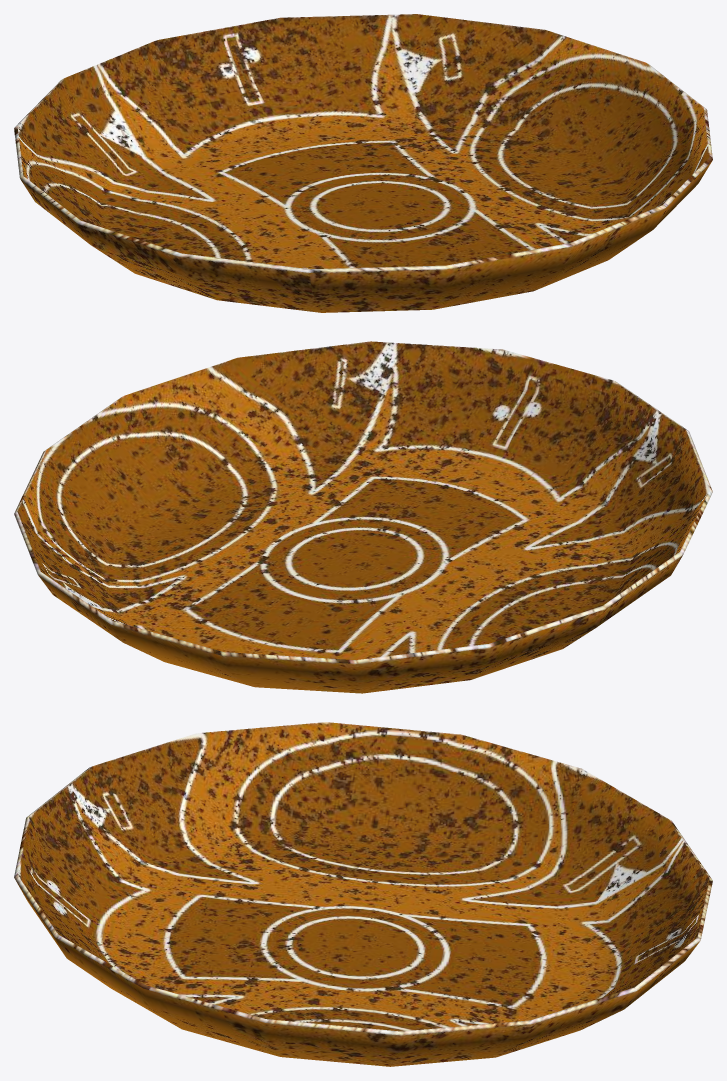
The model's file is plato_arqueologico.glb.
3 renders of one model, top to bottom at view 1: azimuth 30°, elevation 25°; view 2: azimuth 150°, elevation 25°; view 3: azimuth 270°, elevation 25°, orthographic.
Visible parts, largest first — view 1: Vert; view 2: Vert; view 3: Vert.
Part boxes in pixels (box(x1,y1,x2,y2)): Vert: box(14, 14, 712, 312); Vert: box(14, 341, 712, 693); Vert: box(14, 722, 712, 1066).
Size of the model in its own units: 0.7545 by 0.1281 by 0.7534.
1 material, 1 textured.
